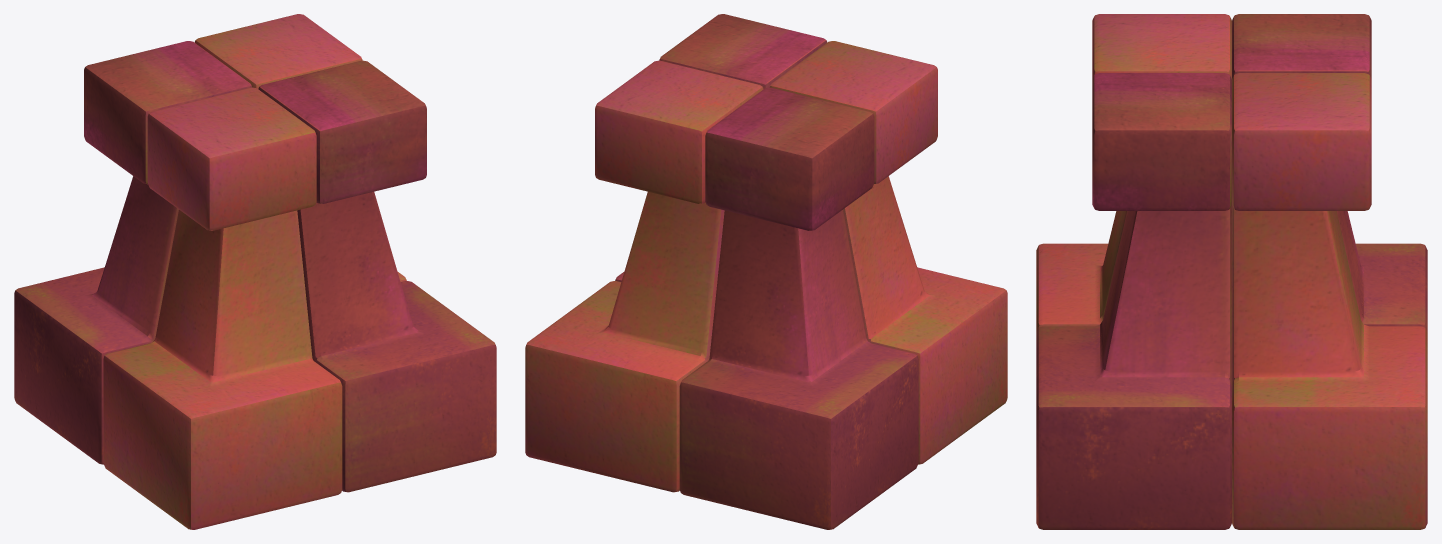
The model's file is TEMPLE_PEDESTAL.obj.
3 views of the same model, side by side, from view 1: azimuth 30°, elevation 25°; view 2: azimuth 150°, elevation 25°; view 3: azimuth 270°, elevation 25° (orthographic). The views are drawn at different scales.
Parts seen in each view (by area): view 1: TEMPLE_PEDESTAL.001; view 2: TEMPLE_PEDESTAL.001; view 3: TEMPLE_PEDESTAL.001.
Part boxes in pixels (<box>): TEMPLE_PEDESTAL.001: <box>14,14,496,529</box>; TEMPLE_PEDESTAL.001: <box>525,14,1007,529</box>; TEMPLE_PEDESTAL.001: <box>1036,14,1427,529</box>.
Size of the model in its own units: 0.84 by 0.9 by 0.84.
